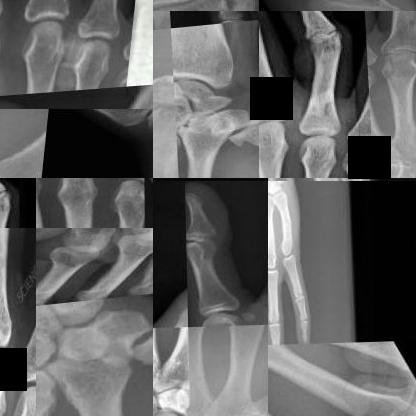fracture: (153, 91, 174, 149), (153, 0, 258, 11), (259, 68, 285, 112), (222, 126, 258, 157), (297, 0, 379, 11), (277, 207, 295, 238), (351, 178, 370, 181)
